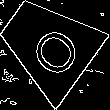O_NW: (16, 12, 79, 77)
